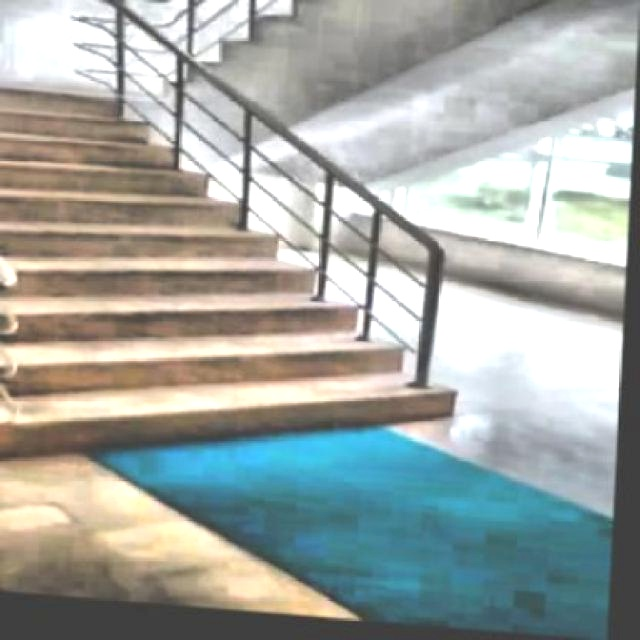stair: (2, 85, 522, 505)
